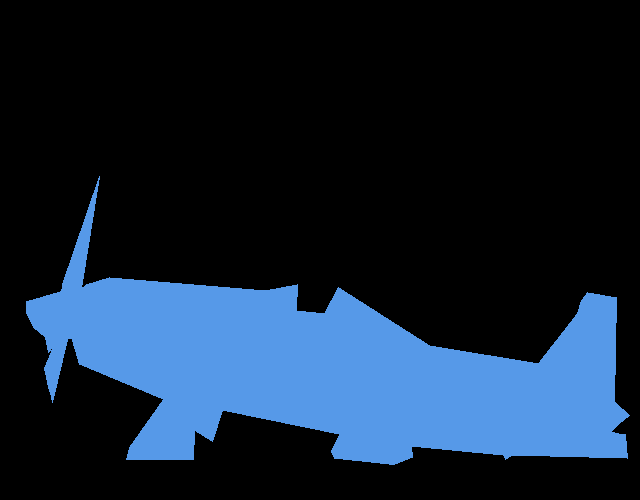Airplane: (26, 176, 629, 464)
